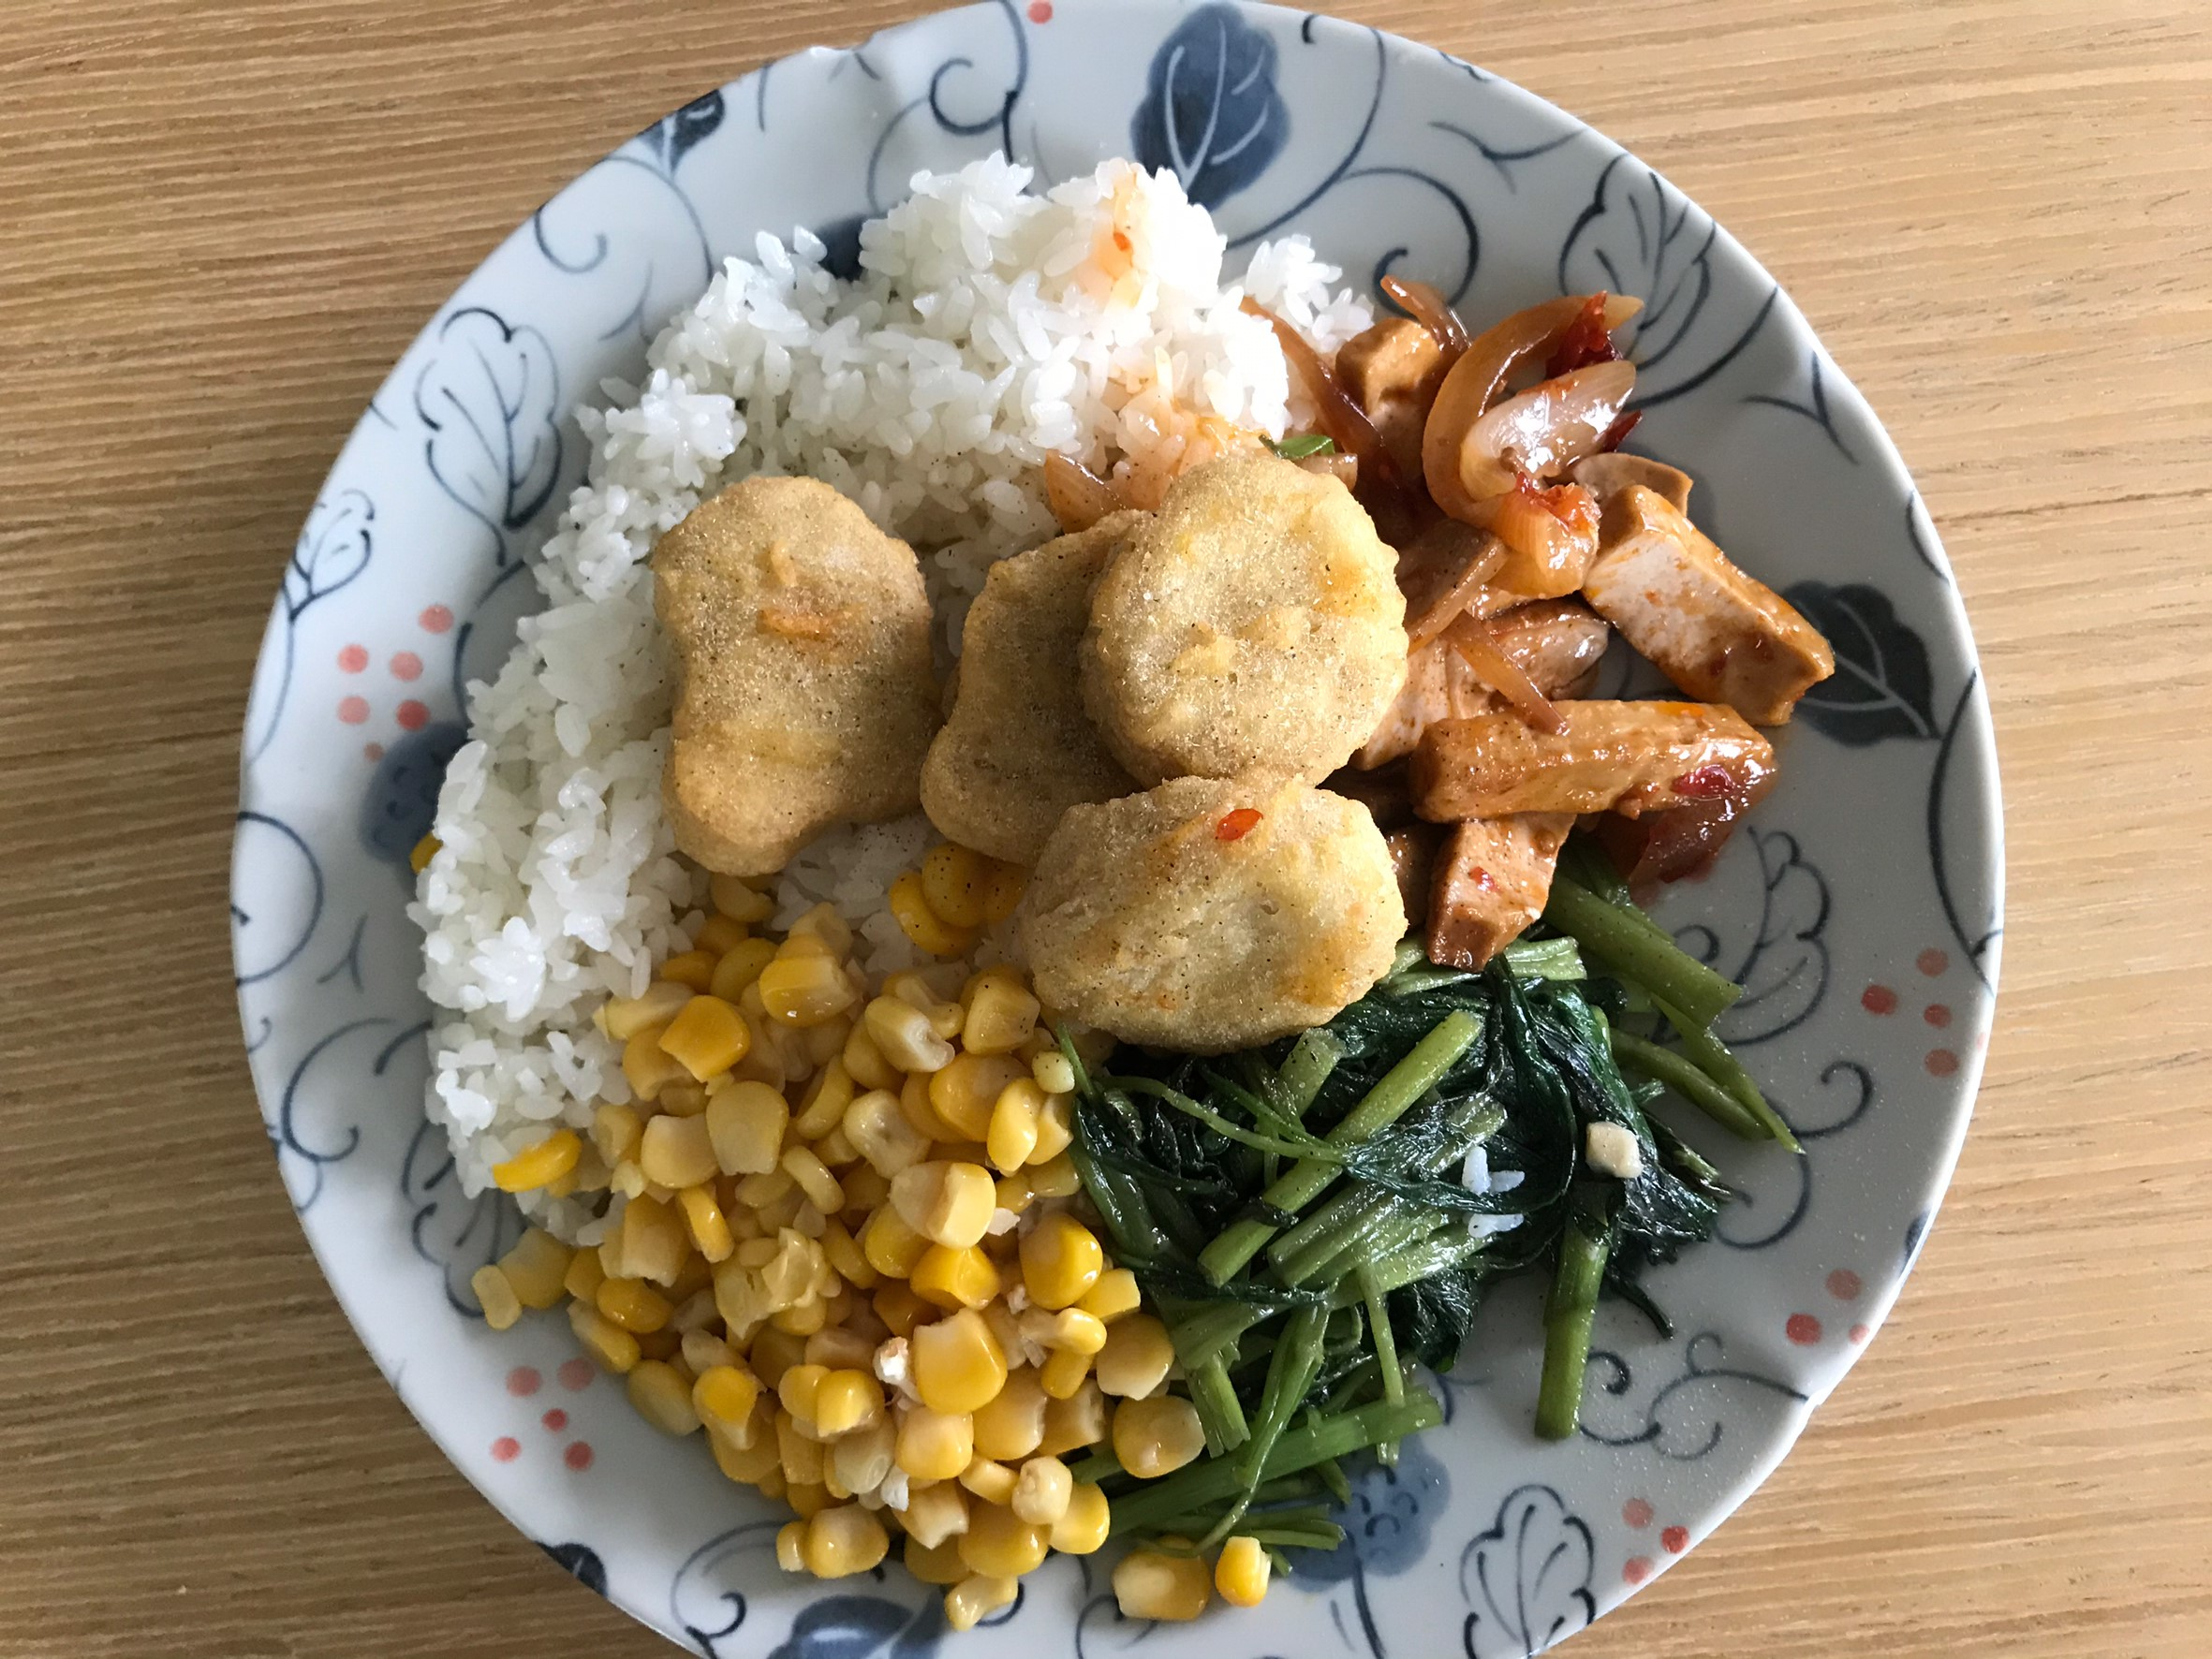chicken_nuggets: (652, 458, 1435, 1042)
rice: (676, 169, 1265, 472)
water_spinach: (1107, 972, 1665, 1527)
